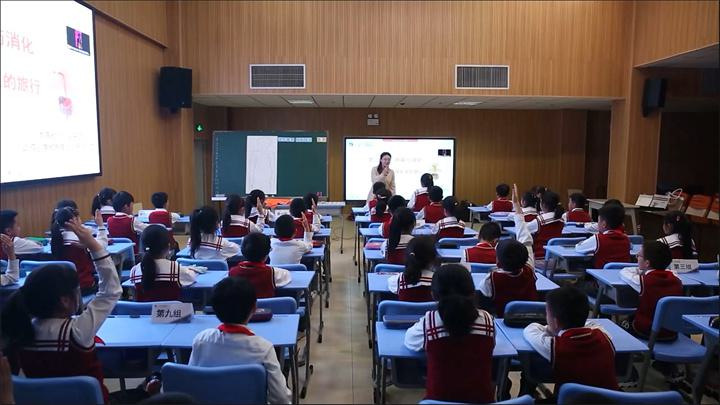bow: (462, 215, 499, 266)
hands-up: (29, 216, 115, 347), (485, 182, 546, 298), (54, 201, 115, 258), (268, 214, 323, 271), (223, 190, 273, 238), (281, 192, 320, 234)
listen: (417, 268, 484, 369), (197, 277, 267, 372), (129, 227, 189, 285), (230, 234, 286, 288), (581, 203, 627, 260), (627, 246, 676, 298), (394, 238, 437, 297), (189, 206, 233, 260)
stand: (403, 167, 429, 210)
